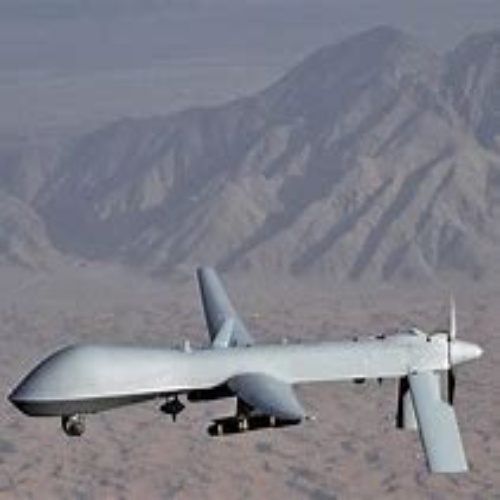uav326: (10, 261, 487, 474)
